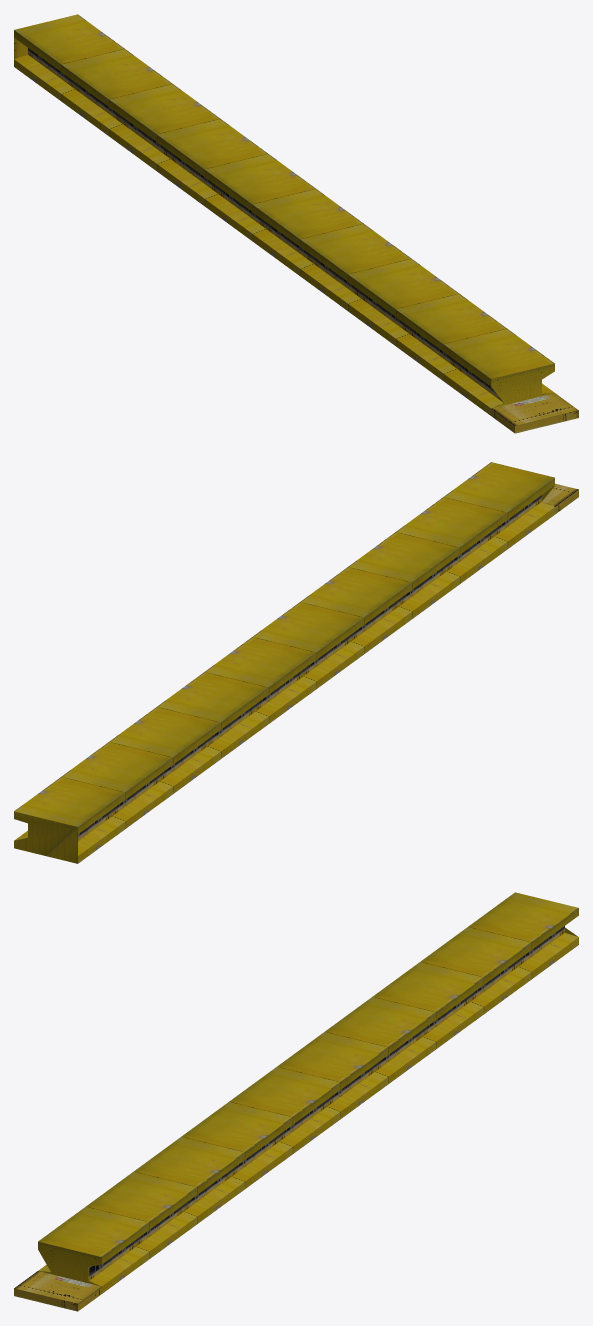
Rendered from crane.glb.
The picture shows the model from 3 angles, top to bottom: view 1: azimuth 30°, elevation 25°; view 2: azimuth 150°, elevation 25°; view 3: azimuth 330°, elevation 25°; orthographic projection.
Visible parts, largest first — view 1: mesh_186_Mesh_crane_main_subset_0, mesh_186_Mesh_crane_main_subset_1, mesh_185_Mesh_crane_clamp_b_subset_0; view 2: mesh_186_Mesh_crane_main_subset_0, mesh_186_Mesh_crane_main_subset_1, mesh_185_Mesh_crane_clamp_b_subset_0; view 3: mesh_186_Mesh_crane_main_subset_0, mesh_186_Mesh_crane_main_subset_1, mesh_185_Mesh_crane_clamp_b_subset_0.
Boxes of the visible parts, x1,y1,x2,y2 form: mesh_186_Mesh_crane_main_subset_0: [14, 14, 554, 415]; mesh_186_Mesh_crane_main_subset_1: [28, 48, 503, 402]; mesh_185_Mesh_crane_clamp_b_subset_0: [491, 393, 578, 433]; mesh_186_Mesh_crane_main_subset_0: [14, 462, 554, 863]; mesh_186_Mesh_crane_main_subset_1: [78, 495, 541, 840]; mesh_185_Mesh_crane_clamp_b_subset_0: [541, 483, 578, 514]; mesh_186_Mesh_crane_main_subset_0: [38, 892, 578, 1293]; mesh_186_Mesh_crane_main_subset_1: [88, 926, 564, 1280]; mesh_185_Mesh_crane_clamp_b_subset_0: [14, 1267, 101, 1311].
Size of the model in its own units: 6.18 by 3.41 by 83.93.
3 materials, 3 textured.
